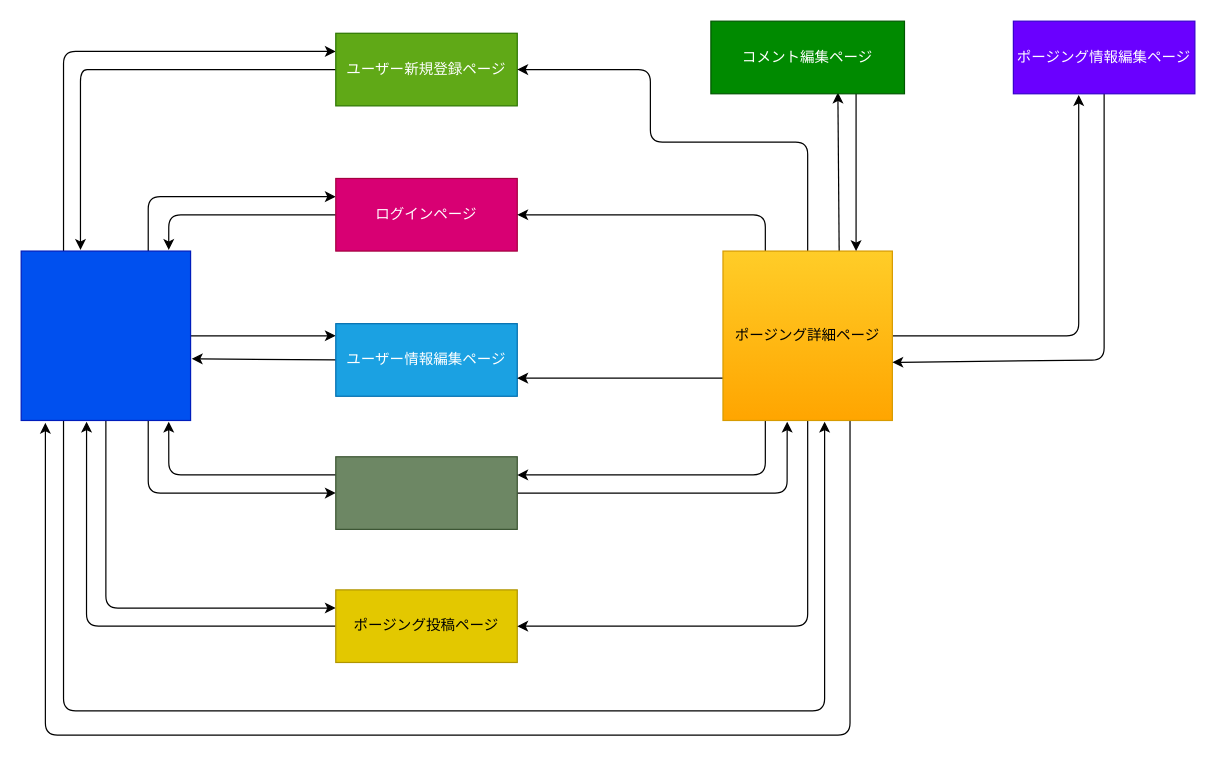
Image size: 1216x766. Some labels were removed from this diagram. The box of each missing label's shape, as (x1, y1, x2, y2) in pixels:
ポージング一覧ページ （トップページ）: (20, 250, 191, 420)
マイページ: (335, 456, 517, 529)
